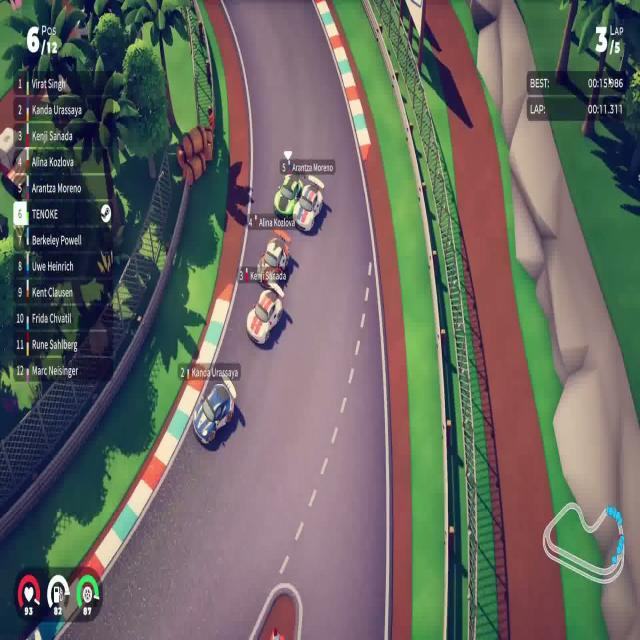car: (192, 376, 236, 446), (246, 287, 283, 345), (256, 235, 290, 283), (292, 182, 324, 232), (273, 172, 303, 220)
